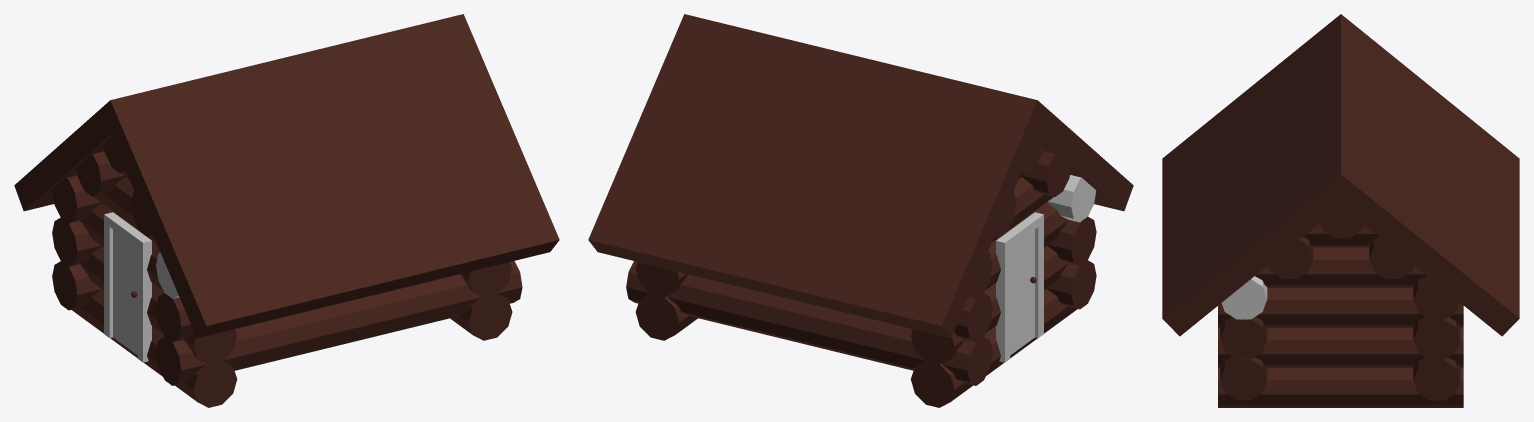
File: chalet.obj
The picture shows the model from 3 angles, left to right: view 1: azimuth 30°, elevation 25°; view 2: azimuth 150°, elevation 25°; view 3: azimuth 270°, elevation 25°; orthographic projection. The views are drawn at different scales.
Visible parts, largest first — view 1: Cube.001_Cube.004, Cylindre.005, Cube.003_Cube.006, Cylindre.017, Cylindre.018, Cylindre.010, Cylindre, Cylindre.001, Cylindre.002, Cylindre.006, Cylindre.004, Cylindre.009 (+3 smaller); view 2: Cube.001_Cube.004, Cylindre, Cube.003_Cube.006, Cylindre.017, Cylindre.018, Cylindre.010, Cylindre.005, Cylindre.004, Cylindre.003, Cylindre.007, Cylindre.001, Cylindre.009 (+3 smaller); view 3: Cube.001_Cube.004, Cylindre.010, Cylindre.009, Cylindre.011, Cylindre.012, Cylindre.005, Cylindre, Cylindre.001, Cylindre.004, Cylindre.002, Cylindre.003, Cylindre.007 (+3 smaller).
Boxes of the visible parts, x1,y1,x2,y2 form: Cube.001_Cube.004: (14,14,559,338); Cylindre.005: (156,261,522,385); Cube.003_Cube.006: (104,212,151,362); Cylindre.017: (71,289,237,407); Cylindre.018: (80,246,237,364); Cylindre.010: (450,294,512,340); Cylindre: (52,261,101,310); Cylindre.001: (52,217,101,266); Cylindre.002: (52,175,101,223); Cylindre.006: (76,151,125,196); Cylindre.004: (156,293,193,342); Cylindre.009: (460,262,512,297); Cube.001_Cube.004: (588,14,1133,338); Cylindre: (626,261,992,385); Cube.003_Cube.006: (996,212,1043,362); Cylindre.017: (910,288,1077,407); Cylindre.018: (911,245,1068,364); Cylindre.010: (635,294,697,340); Cylindre.005: (1047,260,1096,309); Cylindre.004: (1047,216,1096,265); Cylindre.003: (1047,175,1096,222); Cylindre.007: (1022,151,1070,196); Cylindre.001: (954,293,992,342); Cylindre.009: (635,262,687,297); Cube.001_Cube.004: (1162,14,1519,336); Cylindre.010: (1218,367,1463,407); Cylindre.009: (1218,327,1463,367); Cylindre.011: (1218,287,1463,327); Cylindre.012: (1255,247,1426,287); Cylindre.005: (1220,357,1267,400); Cylindre: (1413,357,1460,400); Cylindre.001: (1413,317,1460,360); Cylindre.004: (1220,316,1267,359); Cylindre.002: (1413,276,1459,319); Cylindre.003: (1221,276,1267,319); Cylindre.007: (1268,237,1313,278).
Size of the model in its own units: 6.6 by 4.77 by 6.22.
